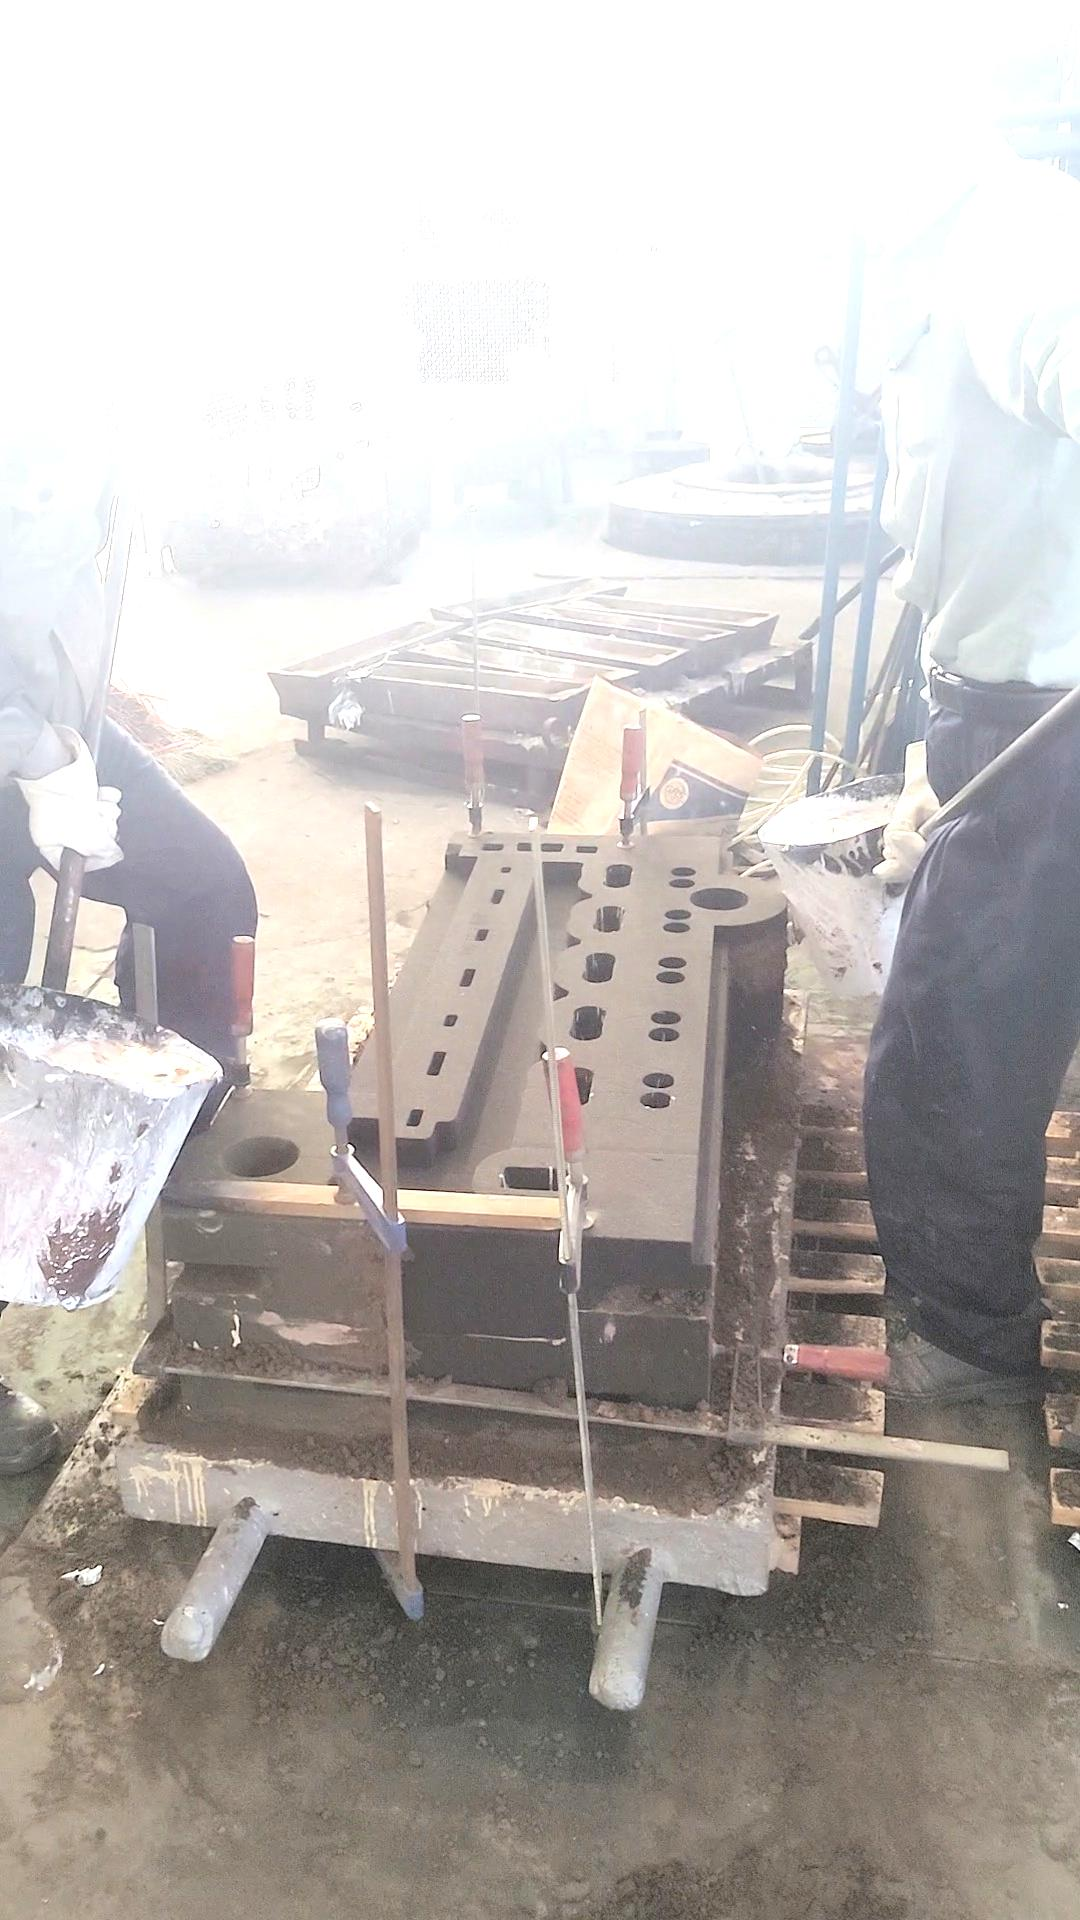pouring hole: (218, 1135, 301, 1178), (688, 887, 749, 910)
